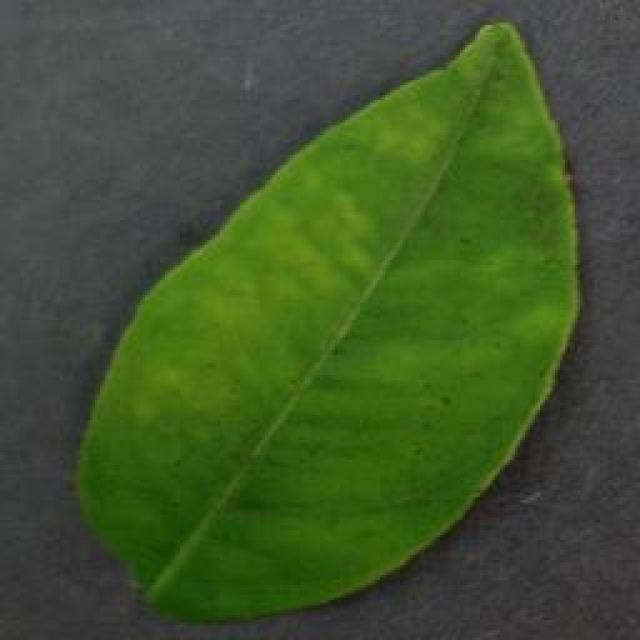Orange_Haunglongbing_Citrus_greening: (196, 141, 562, 544)
